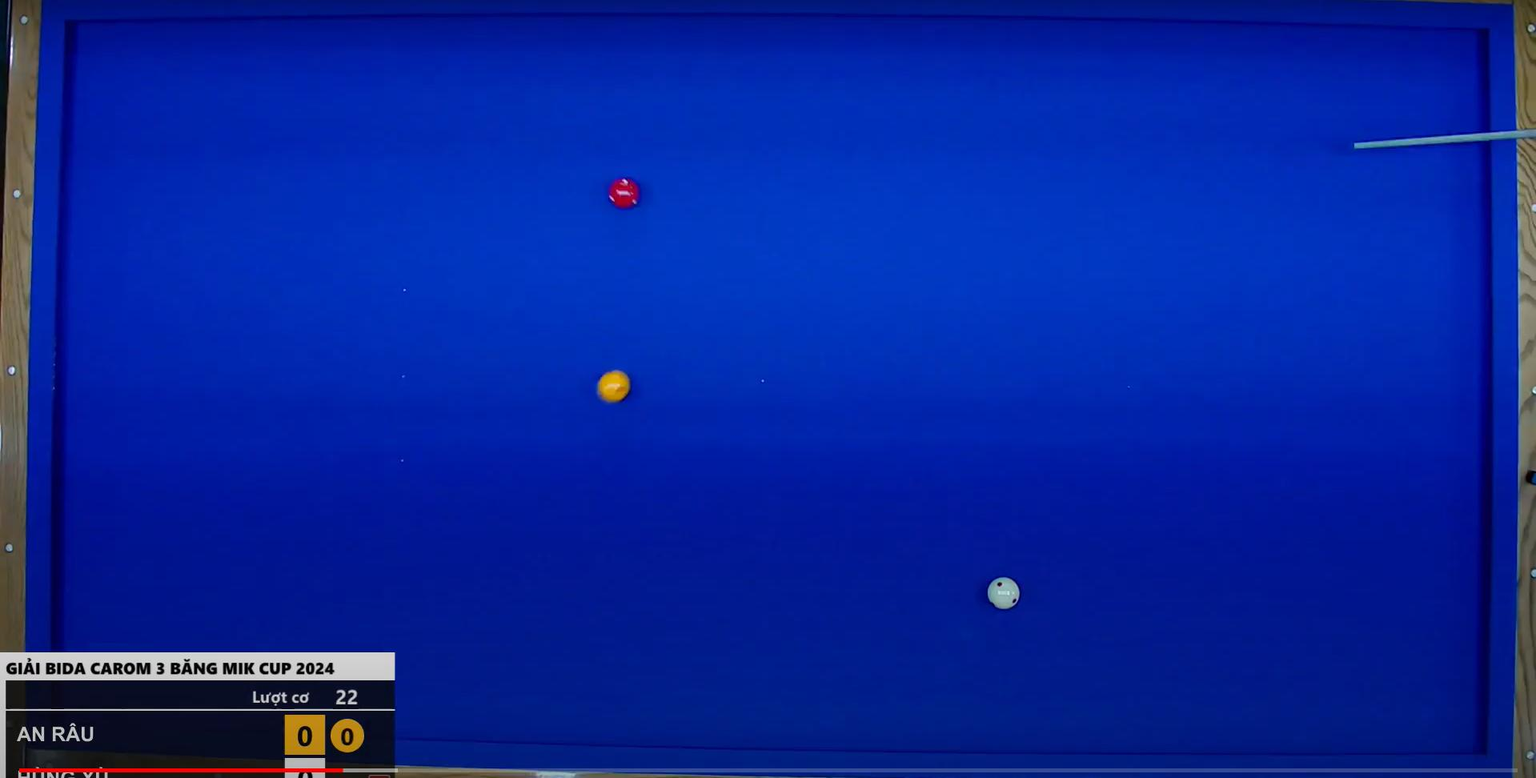red ball: (606, 172, 648, 219)
white ball: (981, 569, 1025, 618)
yellow ball: (592, 359, 635, 414)
